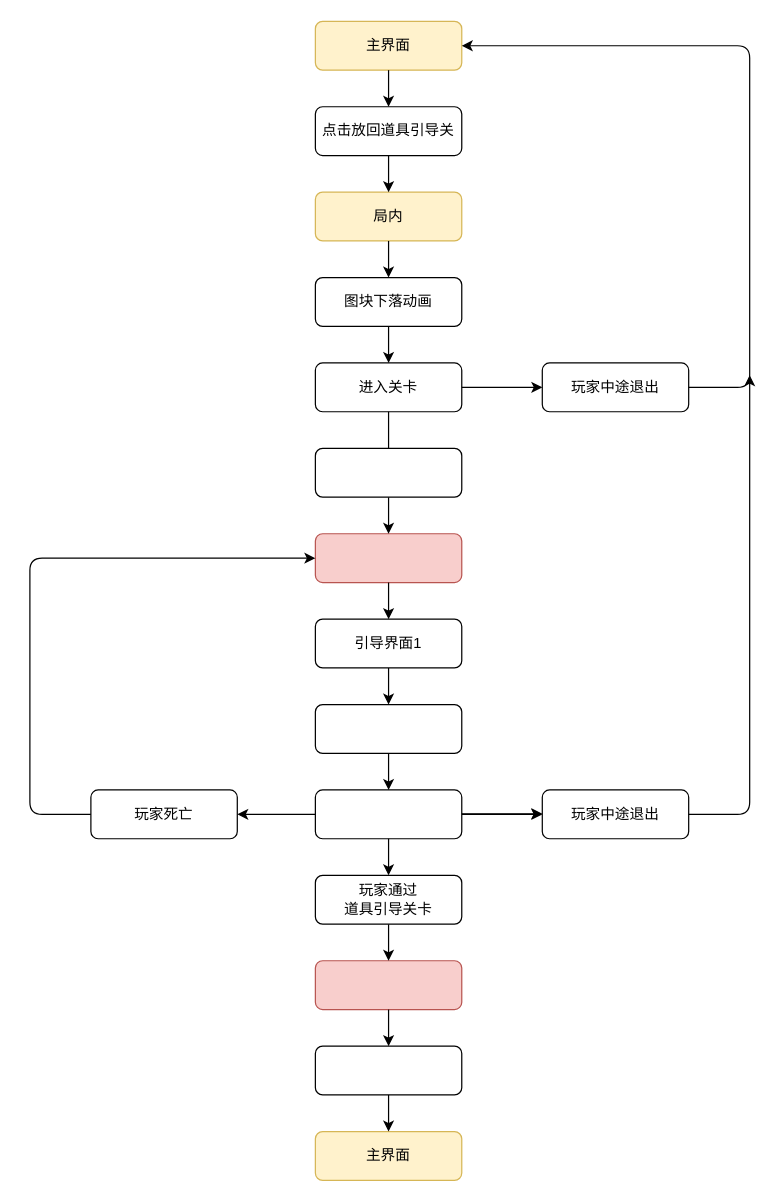
The diagram is 781 pixels wide and 1202 high, and some of its shapes have lost their labels. The box of each missing label's shape, as (x1, y1, x2, y2) in pixels:
引导界面2: (314, 703, 462, 753)
玩家死亡 （特殊发牌）: (314, 447, 462, 497)
玩家继续关卡: (314, 789, 462, 839)
结算界面: (314, 1045, 462, 1095)
道具引导开始: (314, 533, 462, 583)
道具引导结束: (314, 960, 462, 1010)
